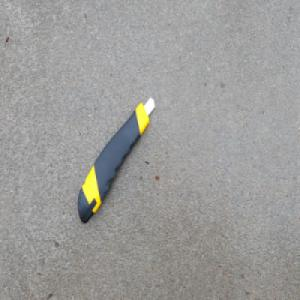Cutter: (76, 95, 155, 225)
